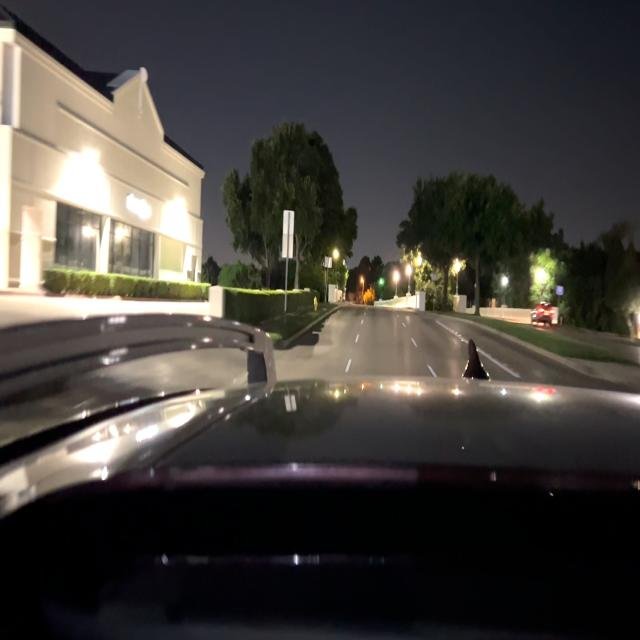back-of-sign: (284, 209, 293, 259)
